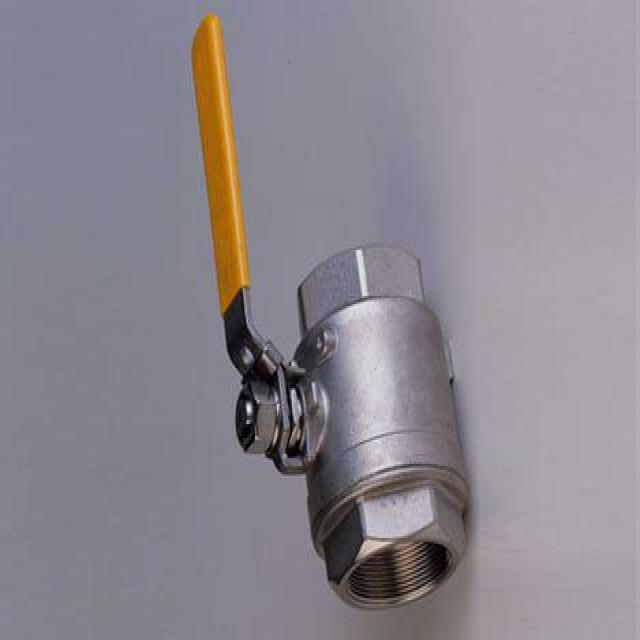opened_valve: (189, 12, 471, 620)
